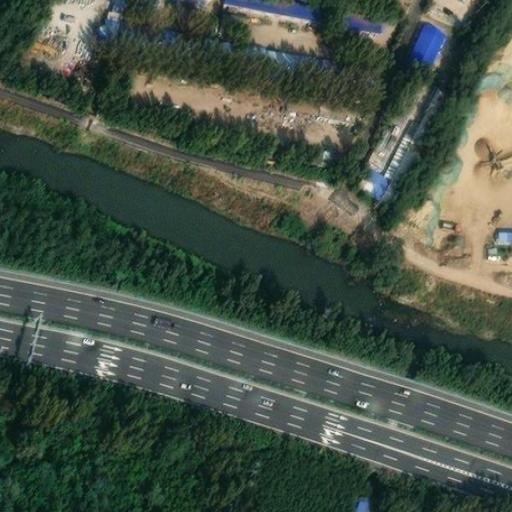building: (223, 0, 380, 25), (209, 30, 299, 65), (412, 81, 450, 138), (383, 127, 425, 178), (356, 159, 405, 202), (295, 45, 359, 76), (407, 15, 445, 65), (351, 494, 371, 511), (496, 224, 512, 236)
